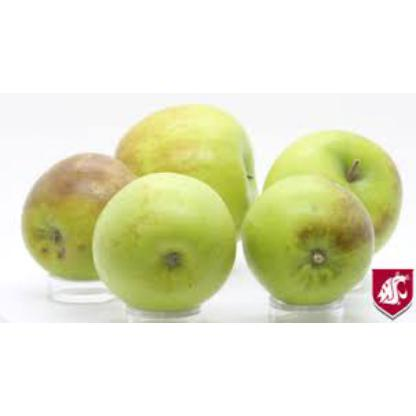apple: (104, 184, 237, 308), (122, 107, 256, 225)
damaged_apple: (265, 126, 411, 256), (246, 179, 376, 304), (14, 152, 136, 284)
